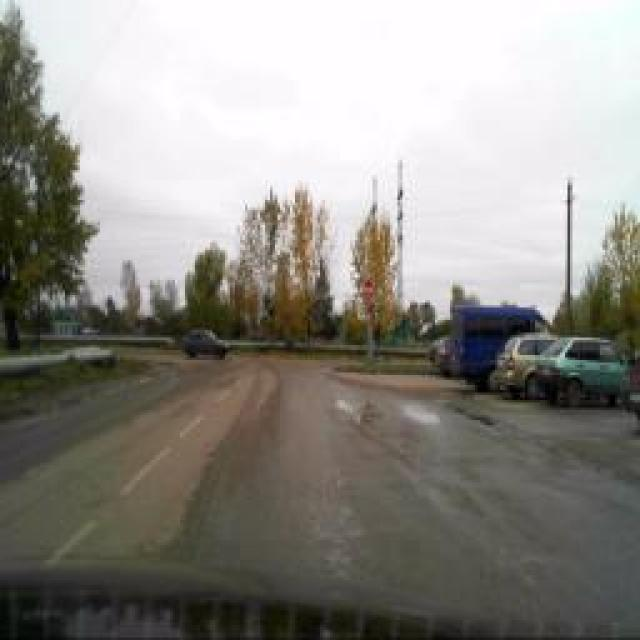sign: (363, 280, 375, 300)
